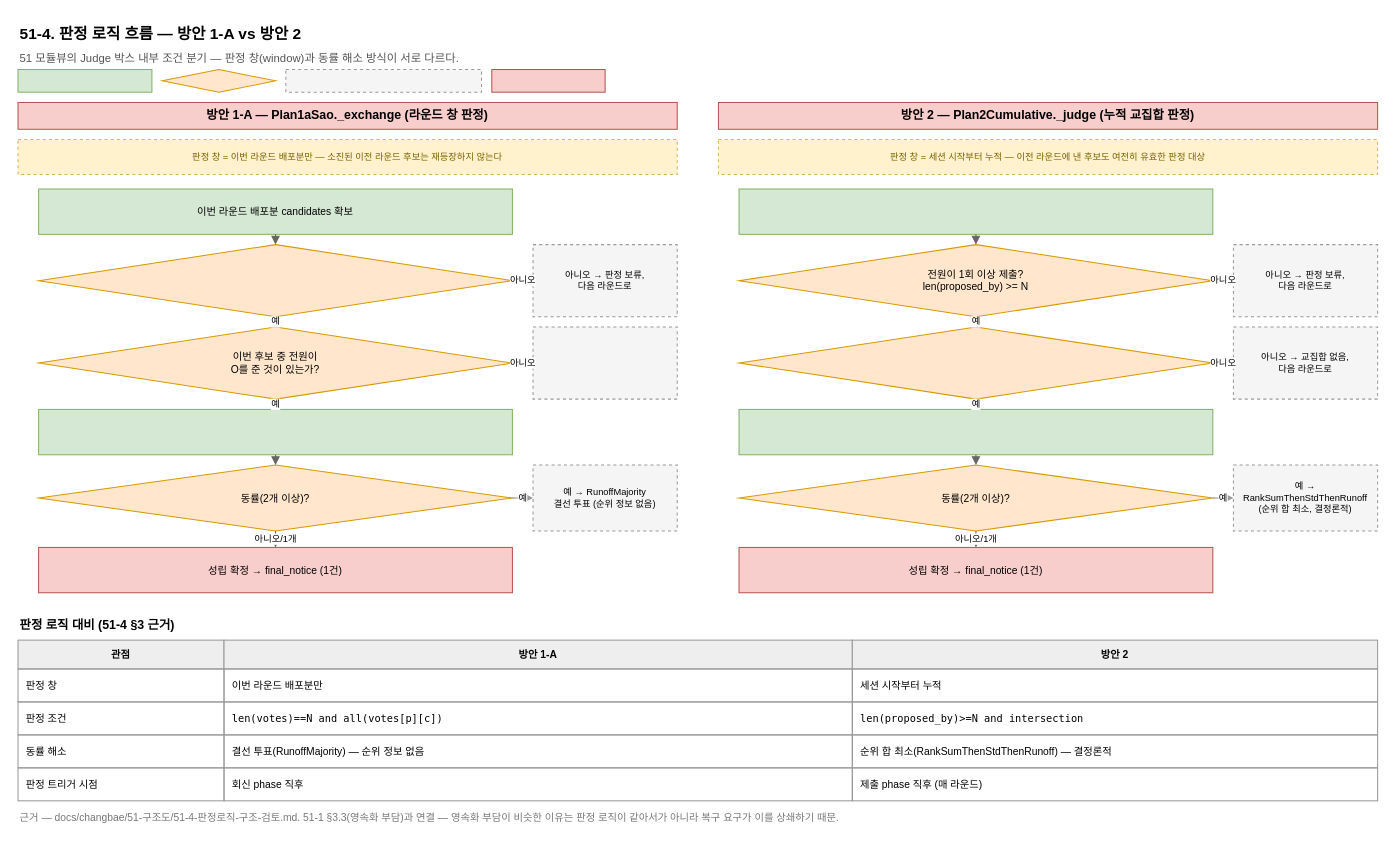
The diagram is 1396 pixels wide and 853 high, and some of its shapes have lost their labels. Here are the shapes that lost their labels. From the top down, the centre of each, then its label:
point (84, 80): 입력/결과 상태
point (218, 80): 조건 분기
point (383, 80): 분기 결과(보류/추가절차)
point (548, 80): 성립 확정
point (975, 211): 이번 제출을 proposed_by[pid]에 누적
point (275, 280): 전원 회신 도착? len(votes) == N
point (604, 362): 아니오 → unanimous 없음, 다음 라운드로
point (975, 362): 누적 집합의 교집합이 있는가? (intersection)
point (275, 431): unanimous 후보 목록 확보
point (975, 431): 교집합 후보 목록 확보
